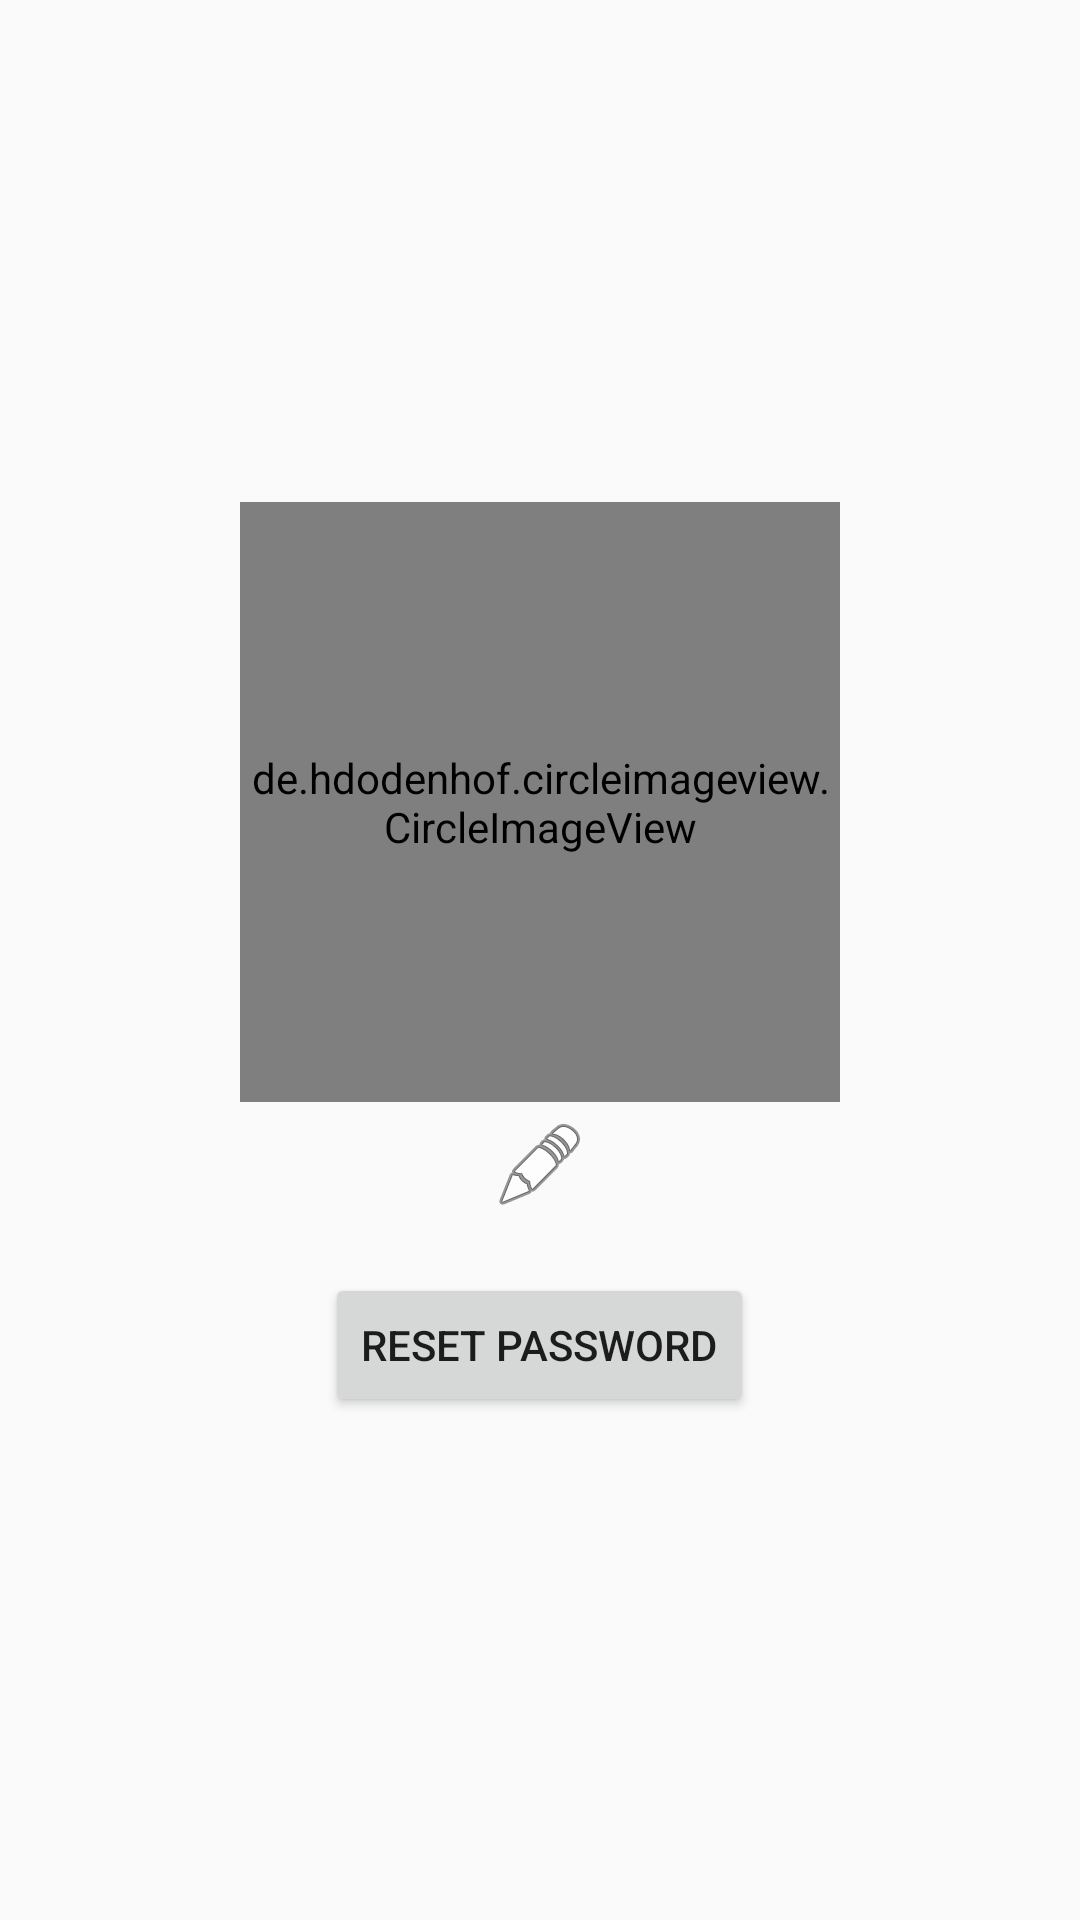

Locate icon controls on the screen. Image size 1080w x 1920h, boxes as box(x1, y1, x2, y2).
edit: box(499, 1124, 580, 1205)
